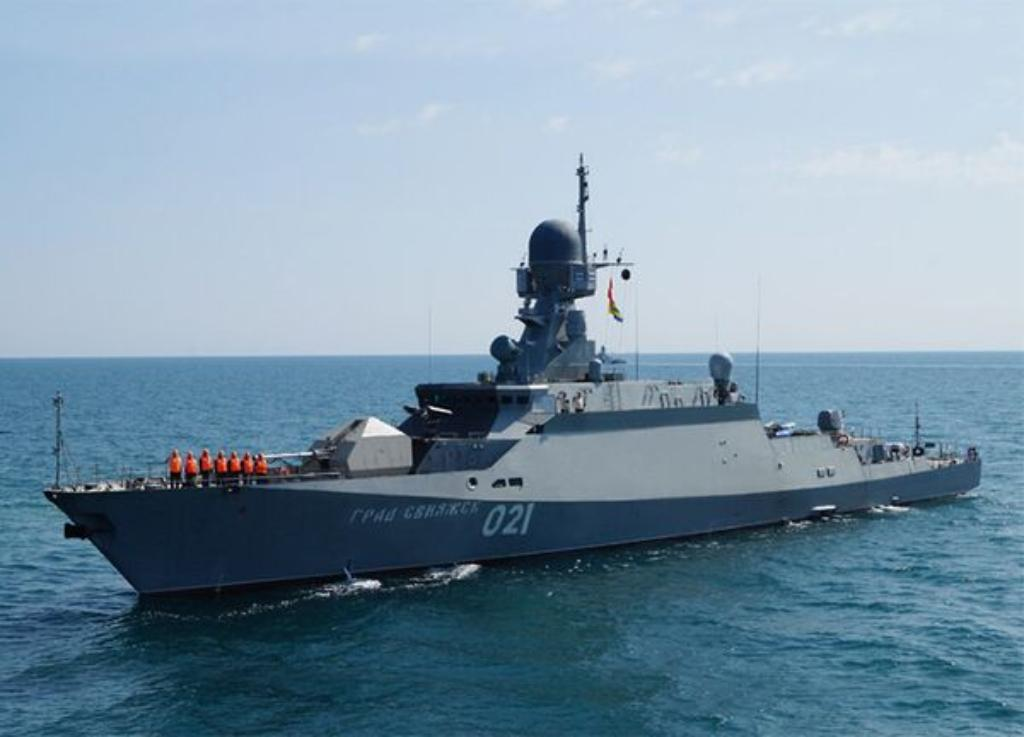Warship: (38, 203, 996, 609)
